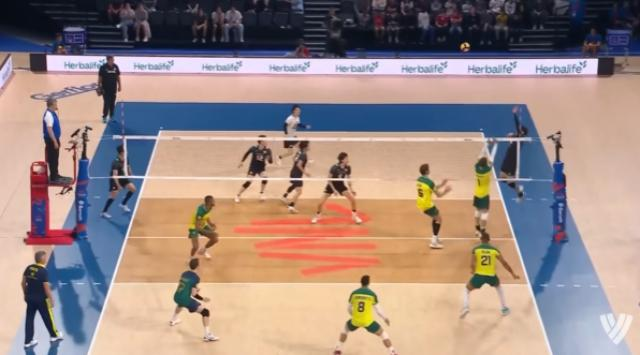Levantador: (462, 129, 506, 247), (284, 133, 314, 217)
Libero: (157, 253, 225, 344), (277, 99, 311, 163)
bola: (454, 30, 476, 62)
